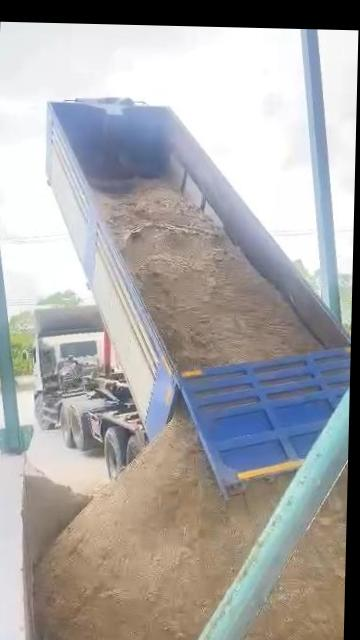sand: (35, 412, 291, 640), (101, 180, 319, 371), (236, 475, 347, 640), (22, 463, 90, 569)
